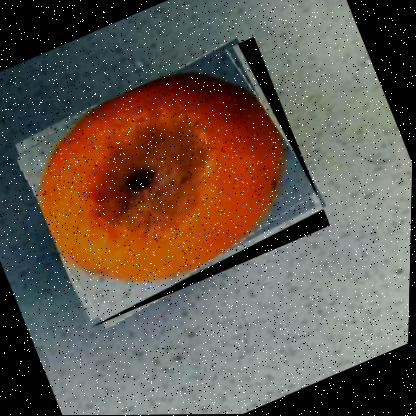orange_rotten: (8, 35, 333, 327)
